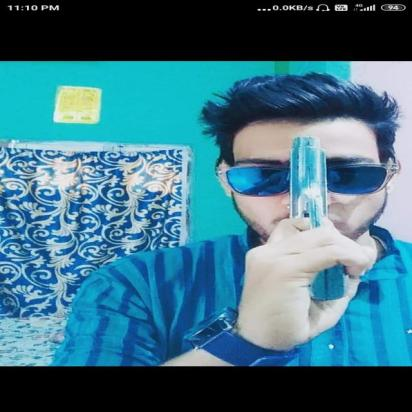Gun: (272, 135, 355, 303)
